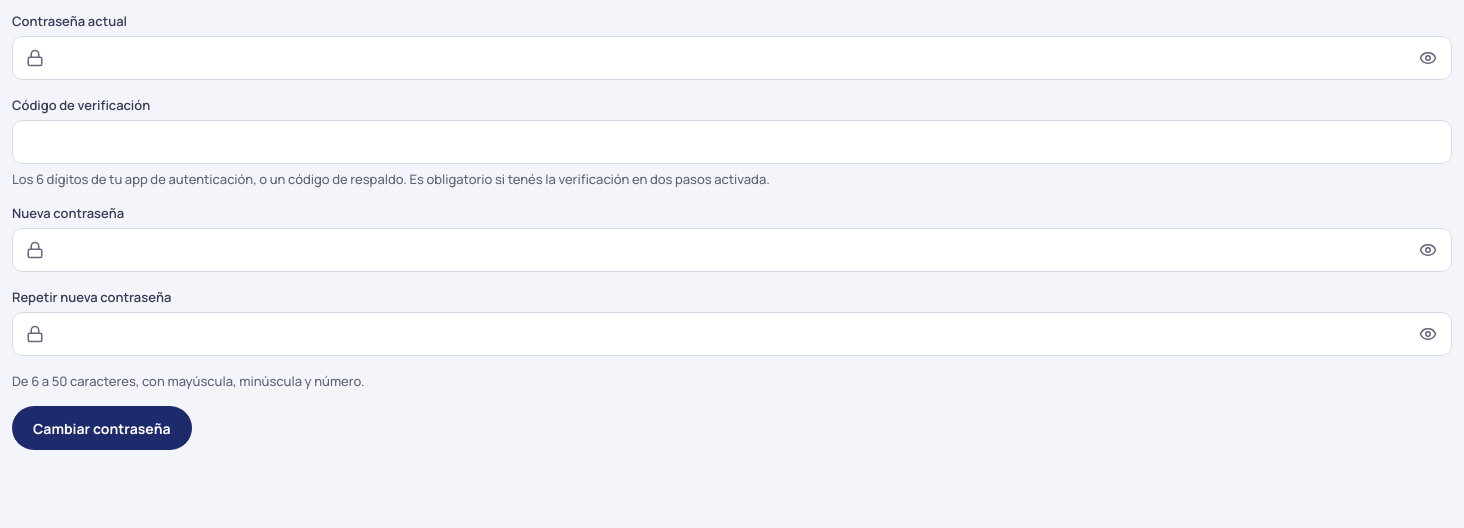
PasswordChangeForm › shows the success notice returned by the action
Type "Actual1" into the password field labelled "Contraseña actual" at (732, 58), box [12, 36, 1452, 80]
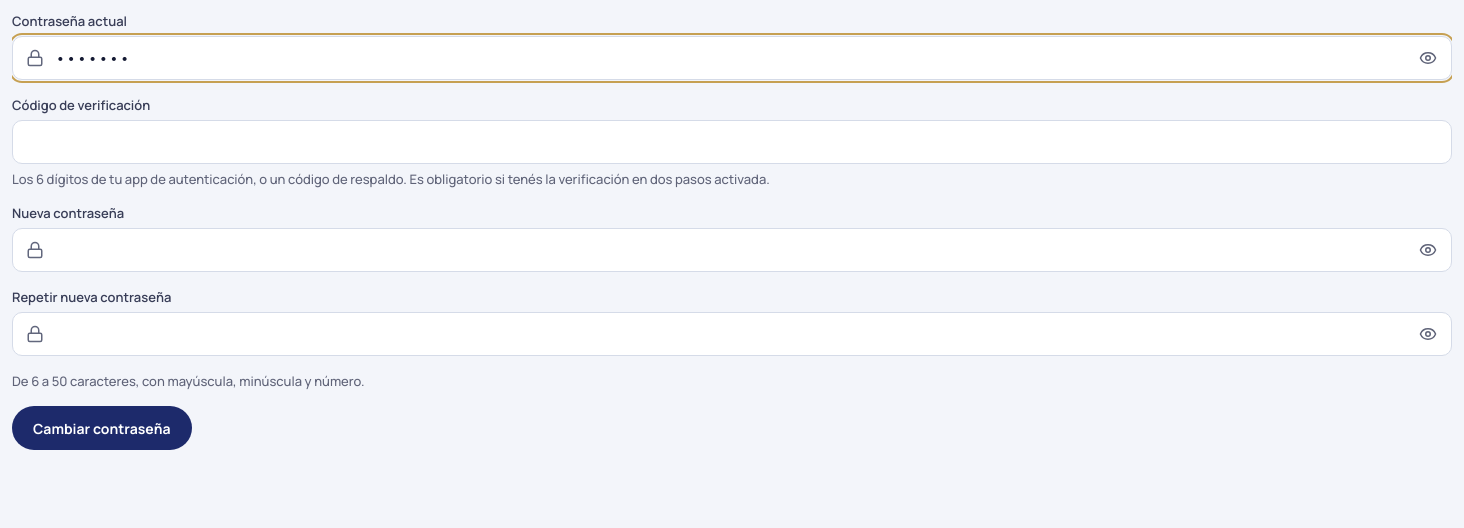
Type "Nueva123" into the password field labelled "Nueva contraseña" at (732, 250), box [12, 228, 1452, 272]
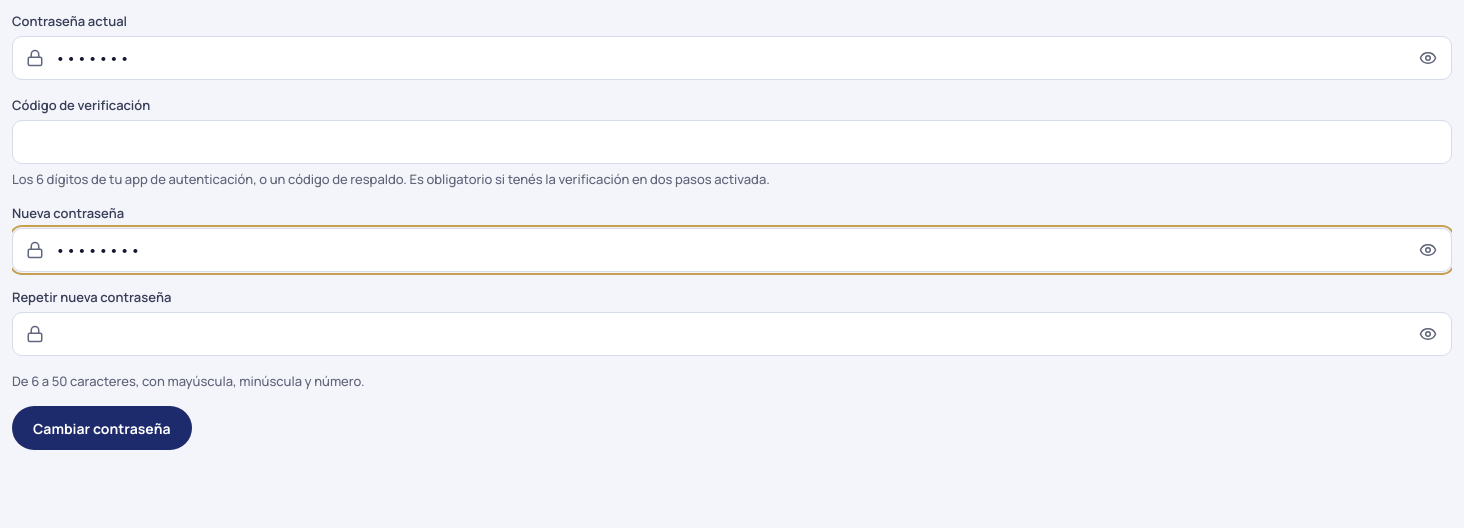
Type "Nueva123" into the password field labelled "Repetir nueva contraseña" at (732, 334), box [12, 312, 1452, 356]
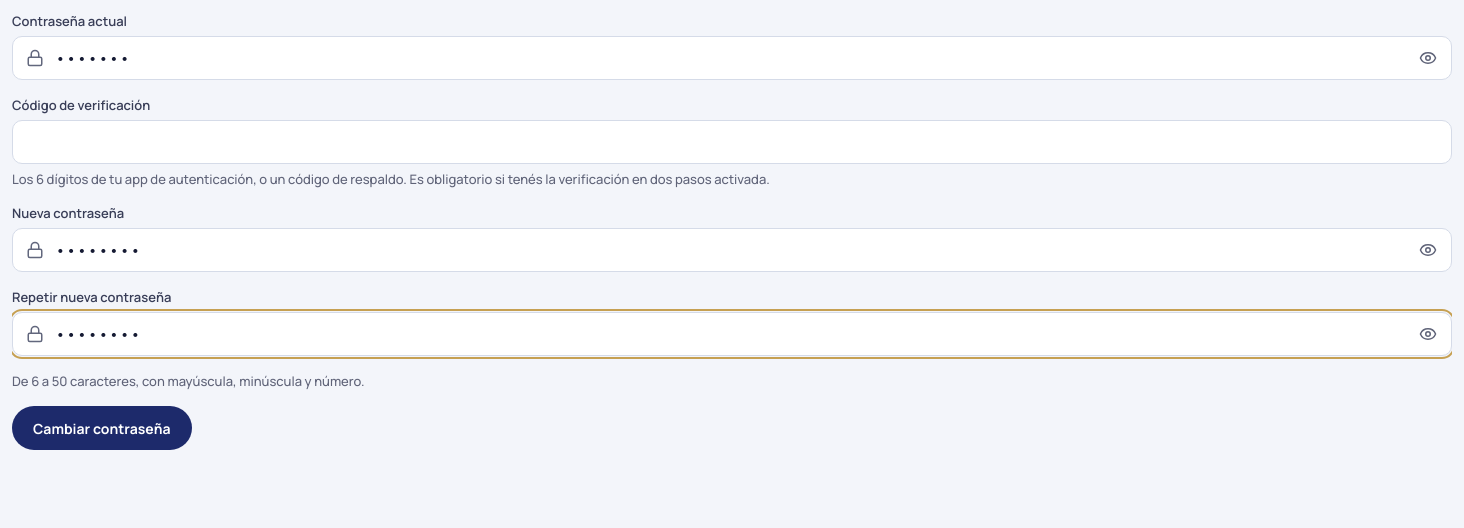
Type "123456" into the field labelled "Código de verificación" at (732, 142), box [12, 120, 1452, 164]
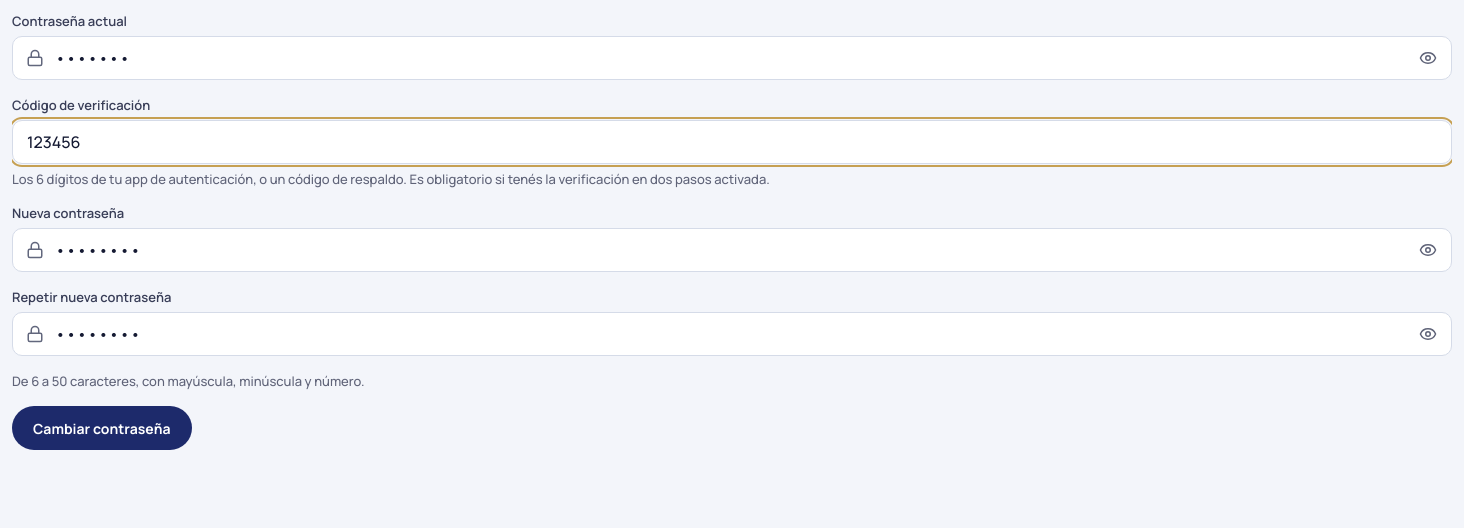
Click the button "Cambiar contraseña" at (102, 428), box [12, 406, 192, 450]
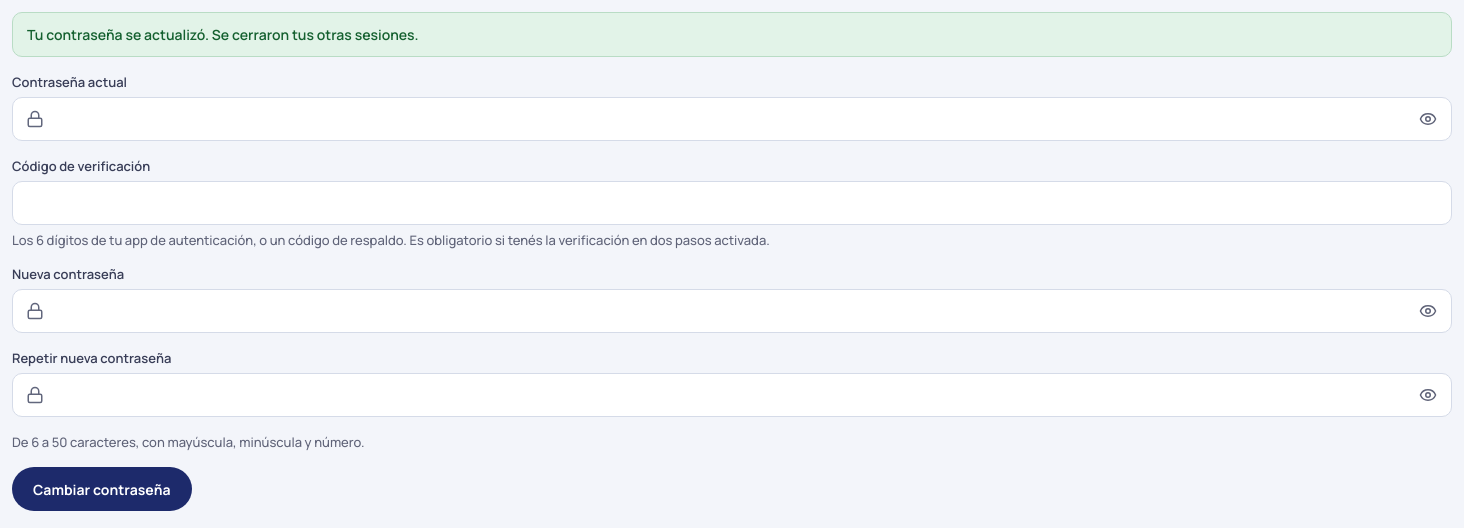
Result: the message reads "Tu contraseña se actualizó. Se cerraron tus otras sesiones." at [27, 25, 419, 44]
